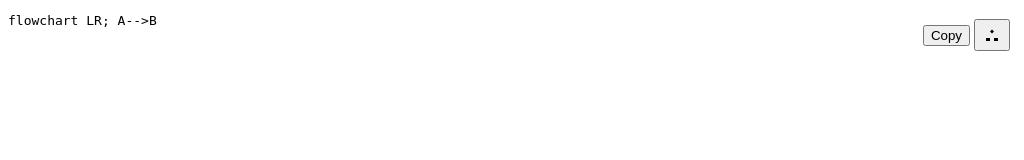
diagram preview controls › ignores a late renderer result after the user returns to code
Click the button named "Preview diagram": point(992, 35) [974, 19, 1010, 51]
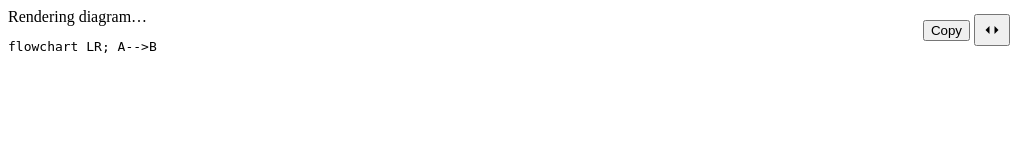
Click the button named "Show code": point(992, 30) [974, 14, 1010, 46]
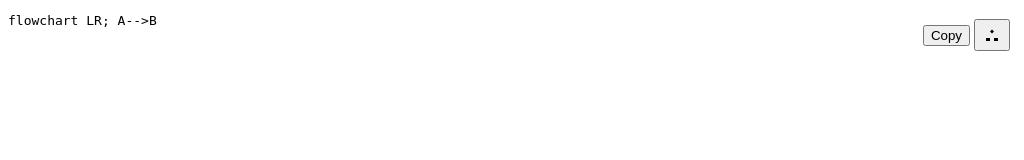
Check: the button named "Preview diagram" is not pressed, box [974, 19, 1010, 51]
